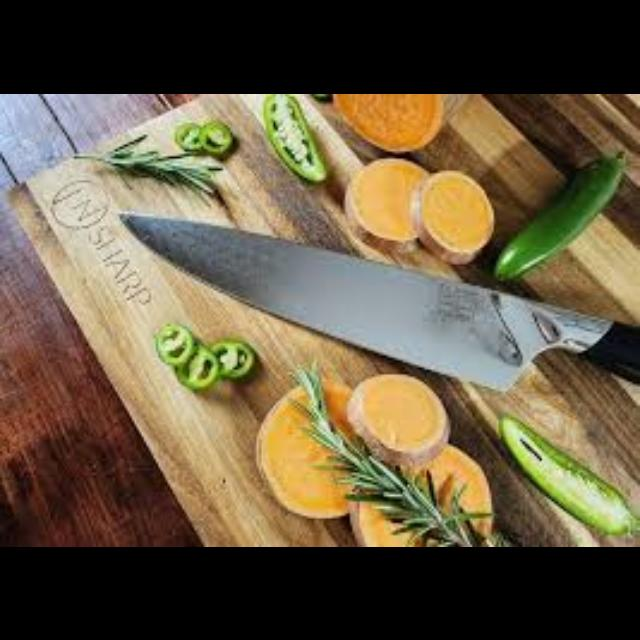knife: (118, 208, 638, 390)
